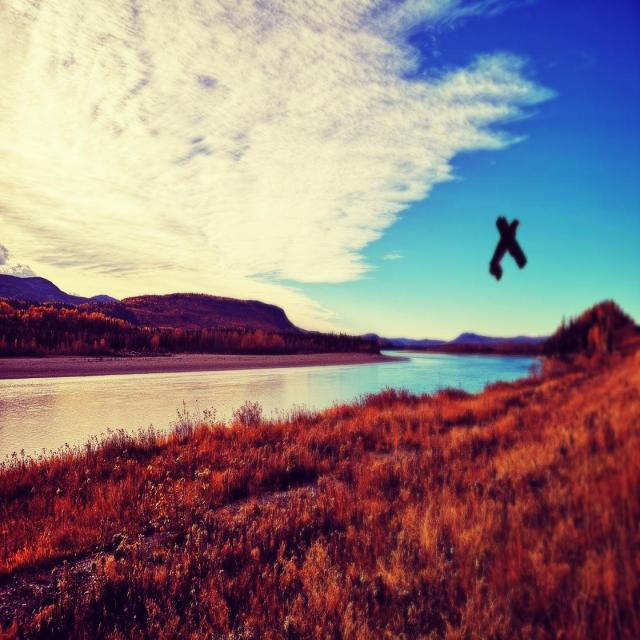airplane: (489, 214, 527, 281)
